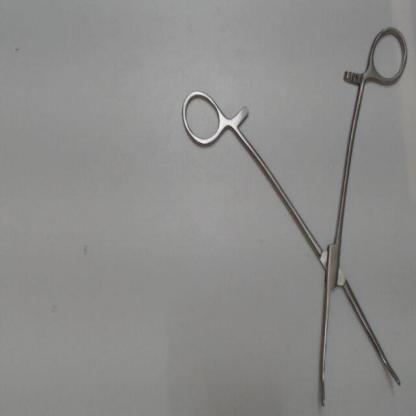Lahey Forceps: (176, 20, 412, 412)
